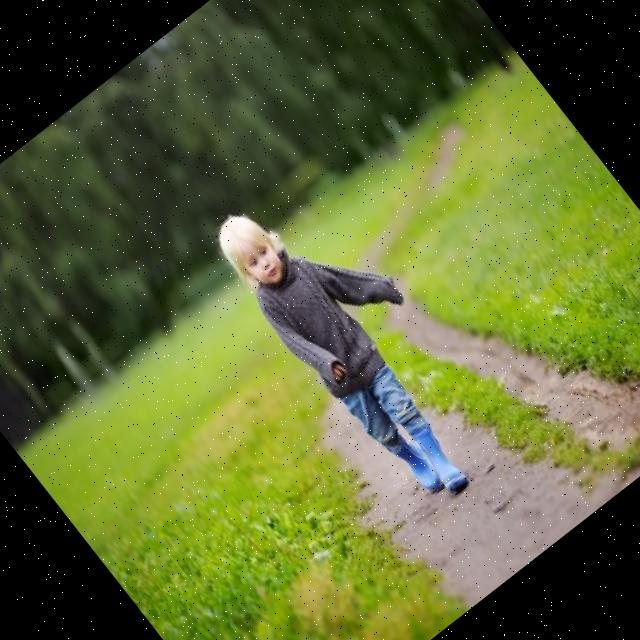Person: (202, 160, 520, 520)
